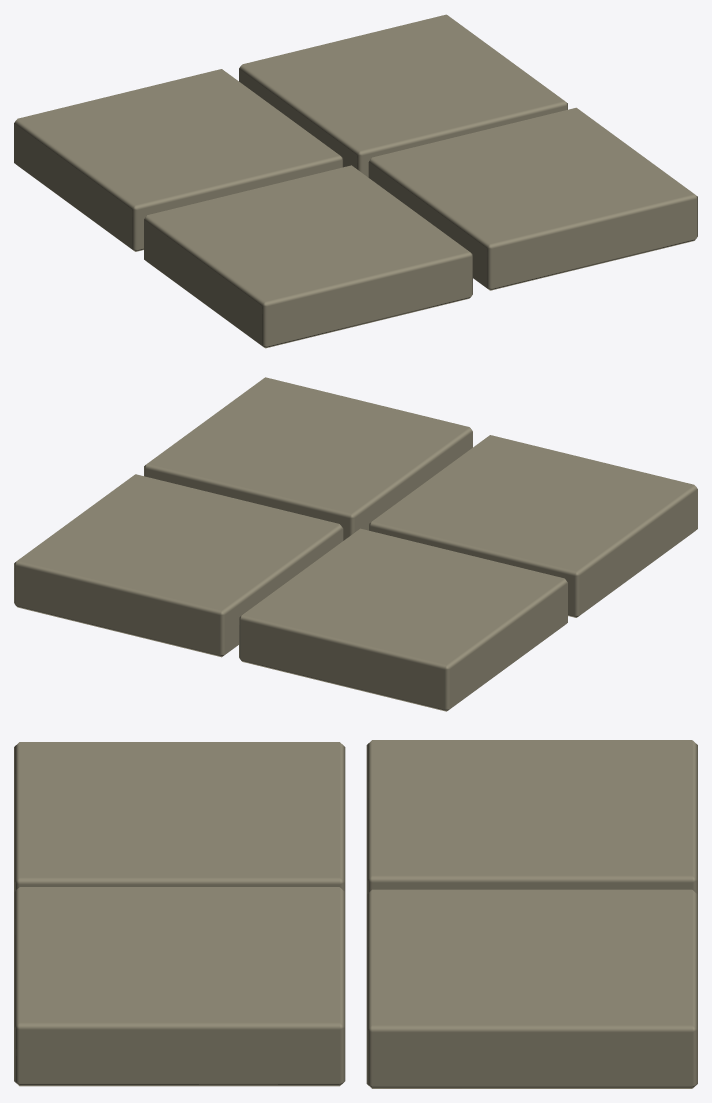
File: stone-halls-flag-a.c3685830.glb
3 renders of one model, top to bottom at view 1: azimuth 30°, elevation 25°; view 2: azimuth 150°, elevation 25°; view 3: azimuth 270°, elevation 25°, orthographic. The views are drawn at different scales.
Parts seen in each view (by area): view 1: body; view 2: body; view 3: body.
Part boxes in pixels (<box>): body: <box>14,14,697,348</box>; body: <box>14,377,697,711</box>; body: <box>14,740,697,1088</box>.
Bounding box in the file's own units: 0.97 × 0.106 × 0.97.
